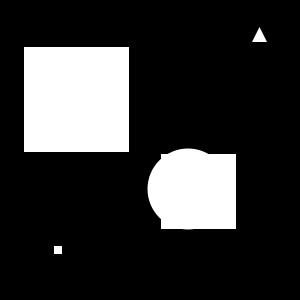circle: (24, 47, 129, 152), (161, 154, 236, 229), (54, 246, 62, 254)
rectangle: (148, 148, 228, 230)
triangle: (252, 27, 267, 42)
